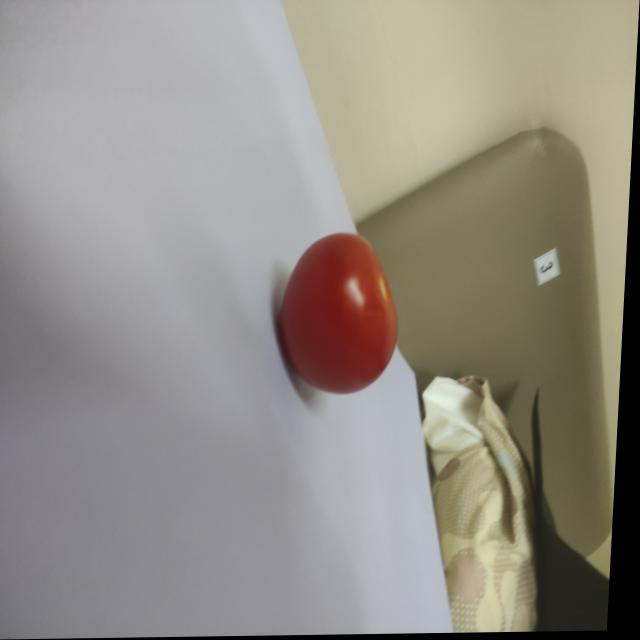kirmizi: (265, 218, 432, 395)
